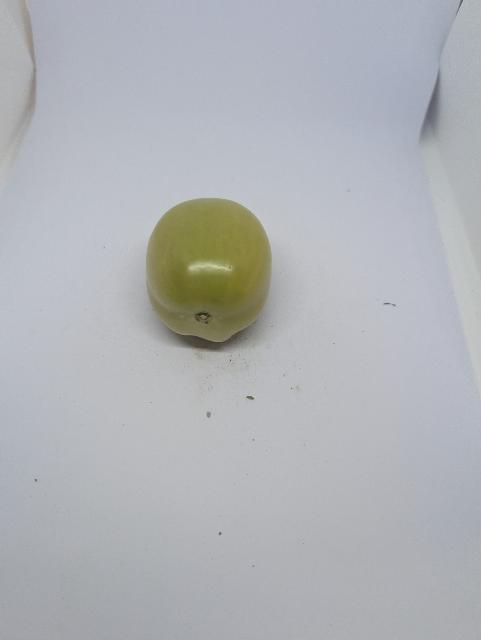green: (144, 196, 274, 346)
